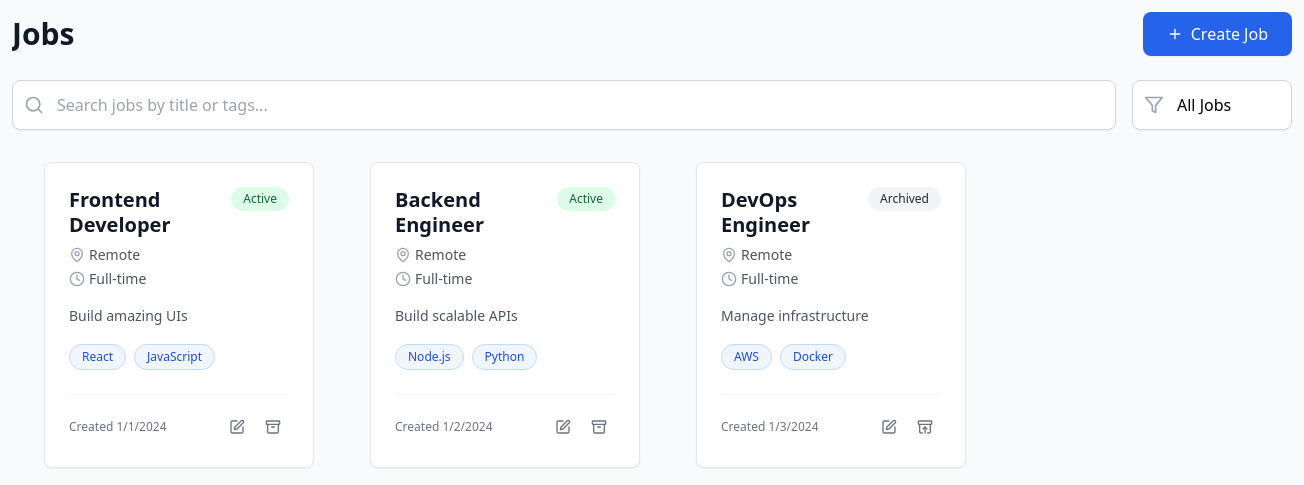
JobsPage › filters jobs by status
Expected: the link "Frontend Developer" is shown, [69,186,170,238]
Select "Active" in the dropdown showing "All Jobs": (1212, 105) [1132,80,1292,130]
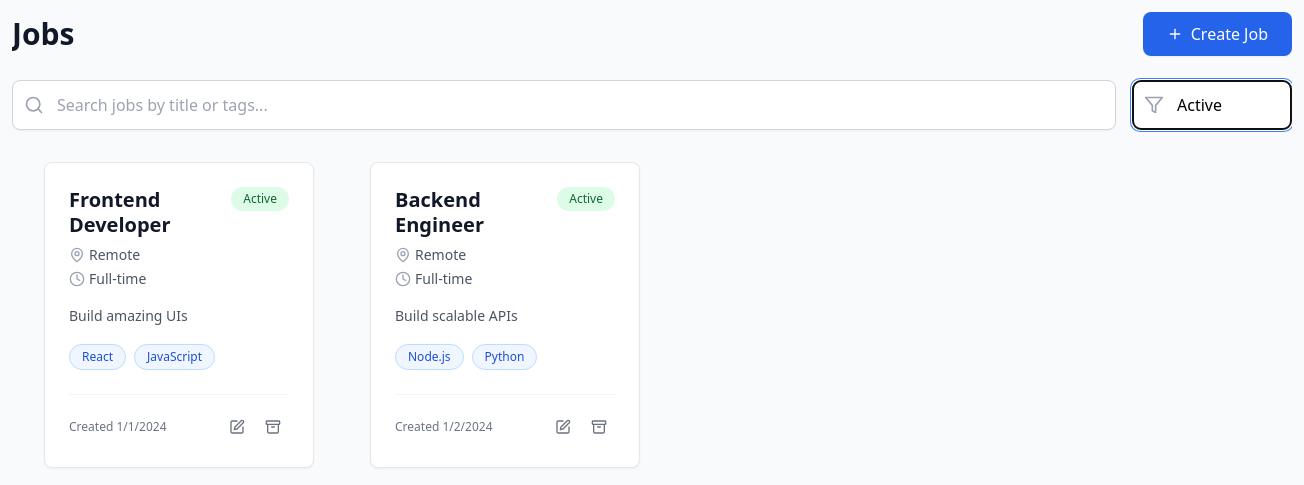
Expected: the link "Frontend Developer" is shown, [69,186,170,238]
Expected: the link "DevOps Engineer" is gone
